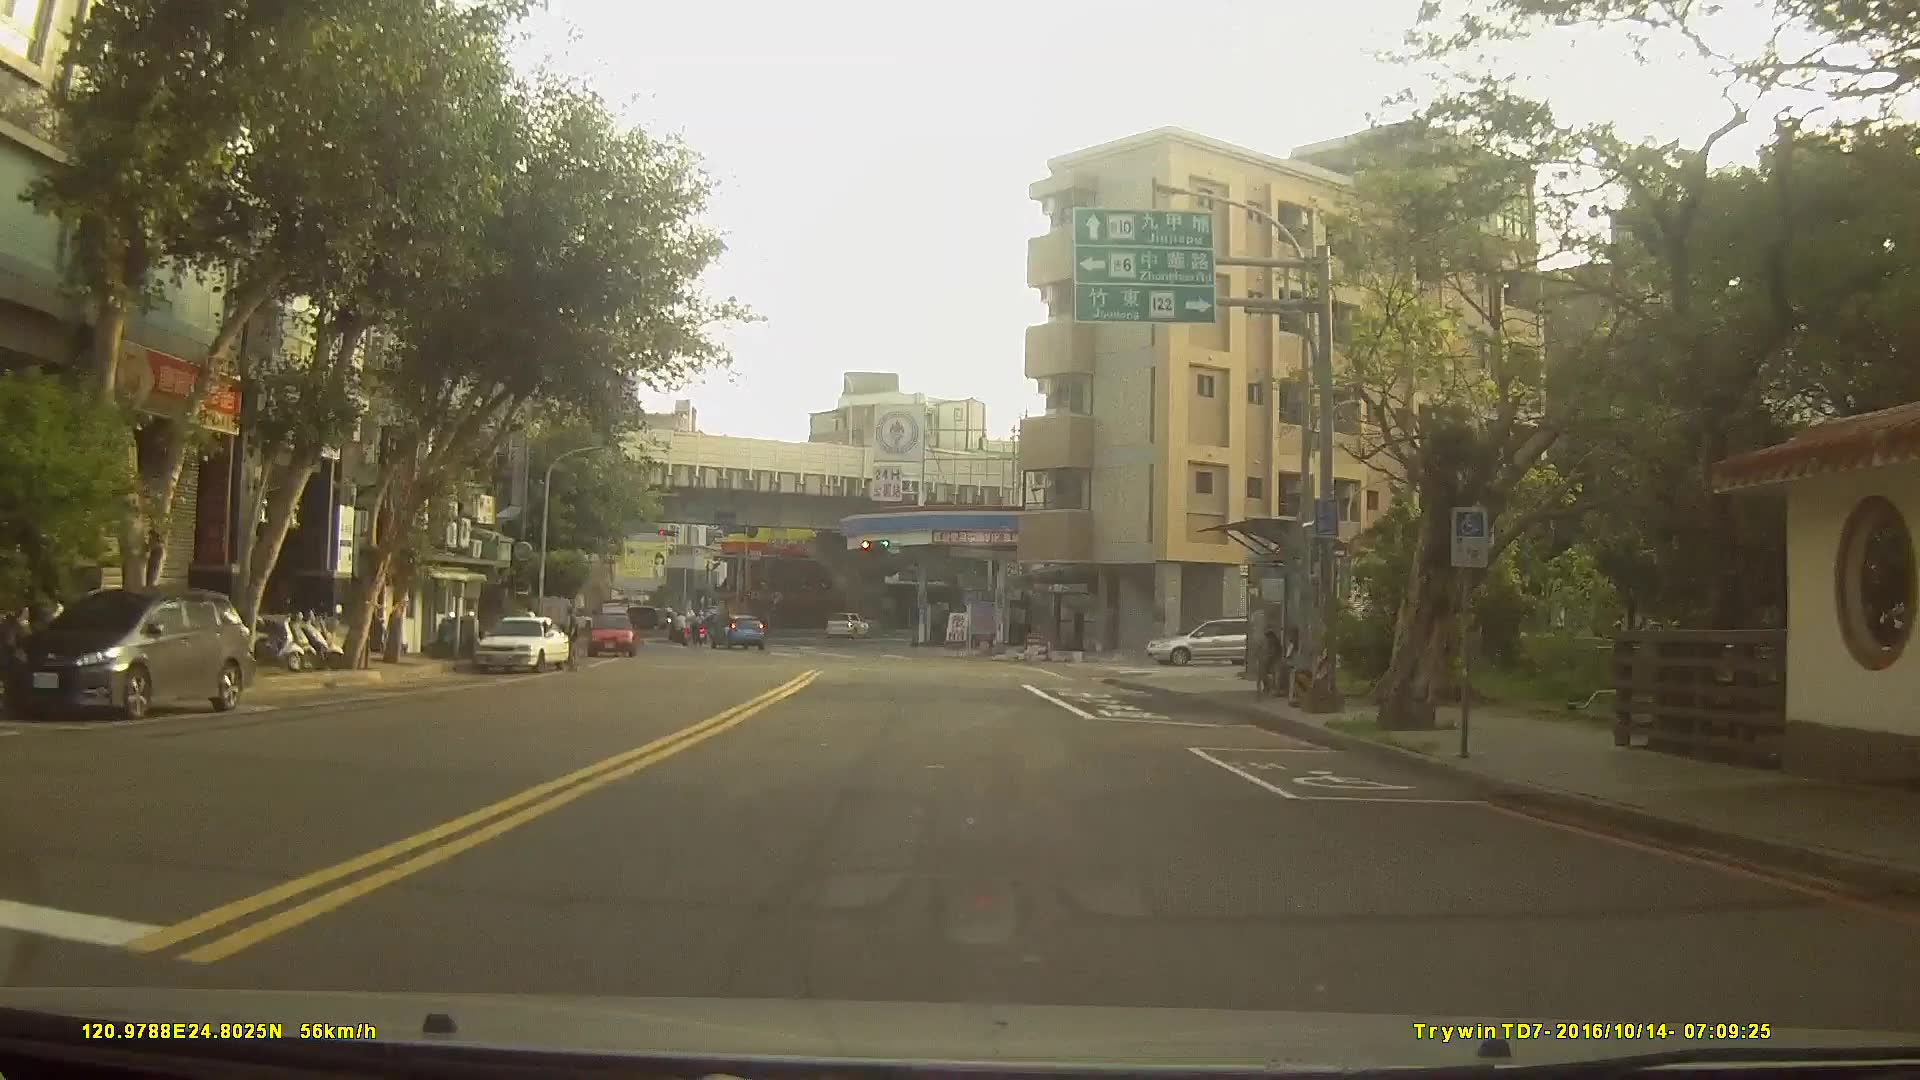pedestrian: (1283, 620, 1308, 704)
rider: (668, 611, 691, 649)
vehicle: (0, 585, 257, 719), (1143, 614, 1272, 664), (475, 613, 573, 671), (586, 606, 634, 654), (709, 611, 764, 649), (824, 610, 867, 638)
